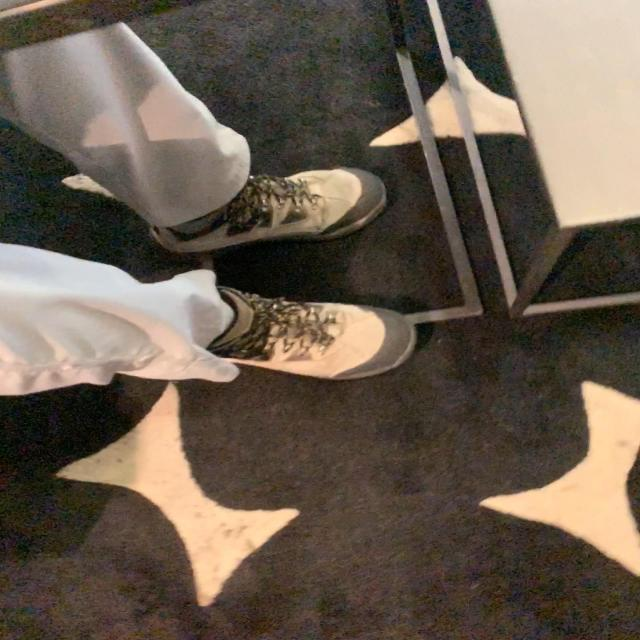shoe: (151, 167, 390, 257), (210, 289, 417, 383)
